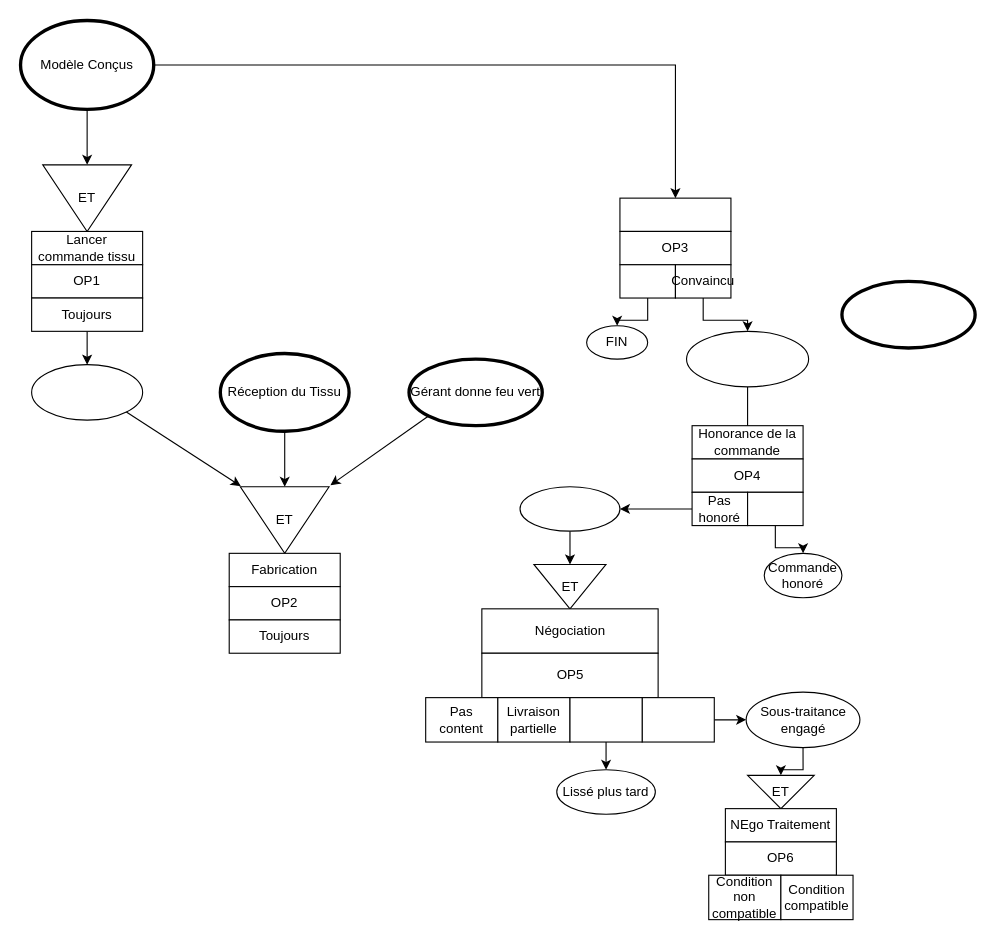
Image size: 996x940. Some labels were removed from this diagram. Each missing label, with the centre of its shape:
"Appel à la sous-traitance" goes at (677,719).
"Commande reporté" goes at (605,719).
"Commande à rediscuter" goes at (569,508).
"Commandes mené par le client" goes at (747,358).
"Démarcher client" goes at (675,214).
"Honoré" goes at (774,508).
"Pas convaincu" goes at (647,281).
"Réception sous-traitant" goes at (908,314).
"Tissu commandé" goes at (87,392).
